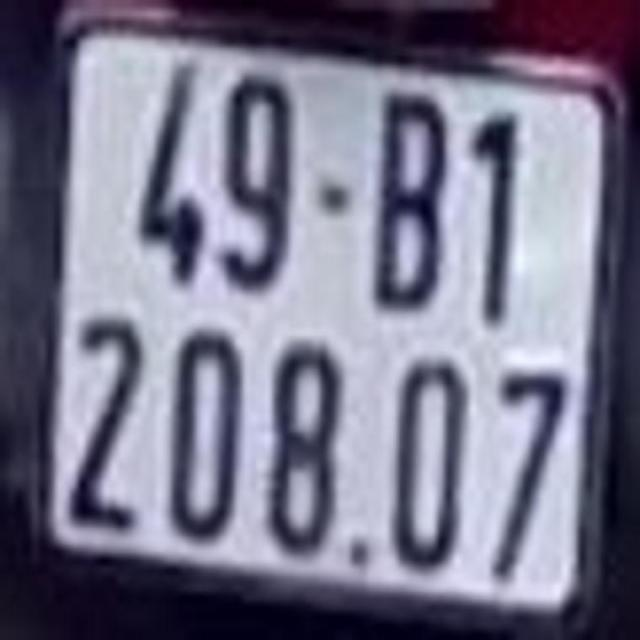0: (393, 354, 471, 573), (175, 328, 235, 538)
1: (468, 112, 520, 326)
2: (69, 323, 143, 544)
4: (136, 54, 210, 284)
7: (490, 364, 561, 578)
8: (270, 338, 334, 549)
9: (224, 74, 300, 290)
B: (379, 86, 448, 310)
